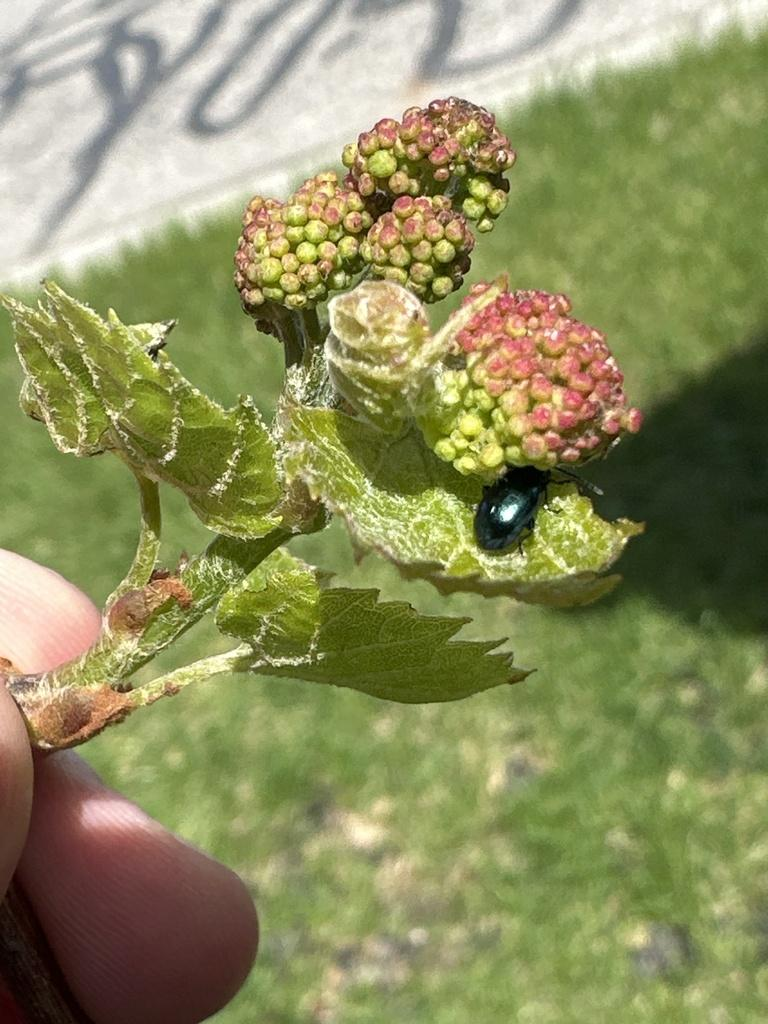flea_beetle: (455, 433, 575, 571)
